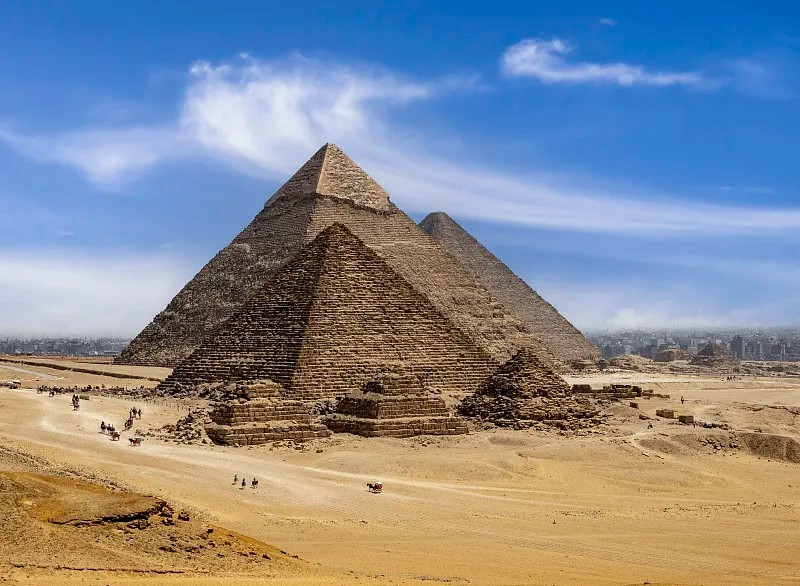Pyramid: (113, 142, 576, 374), (155, 221, 504, 398), (419, 211, 603, 364), (326, 363, 471, 435), (188, 379, 335, 446), (458, 350, 593, 418)
